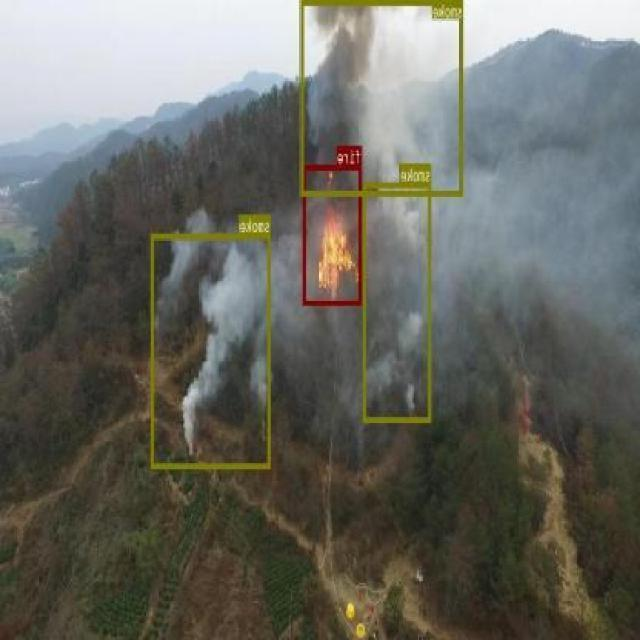Fire: (304, 164, 362, 304)
Smoke: (302, 0, 464, 194), (152, 233, 272, 467), (364, 182, 432, 422)
